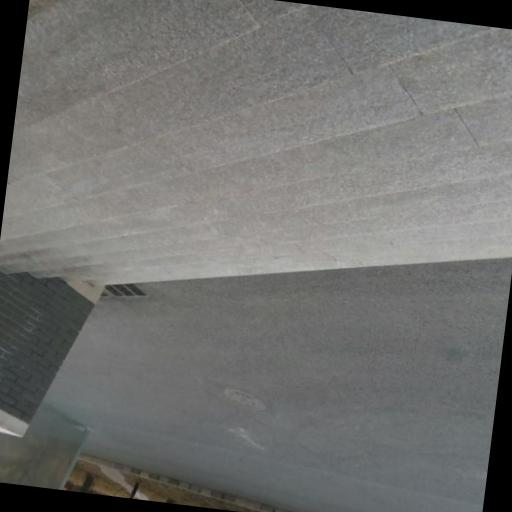stairs: (0, 0, 511, 282)
